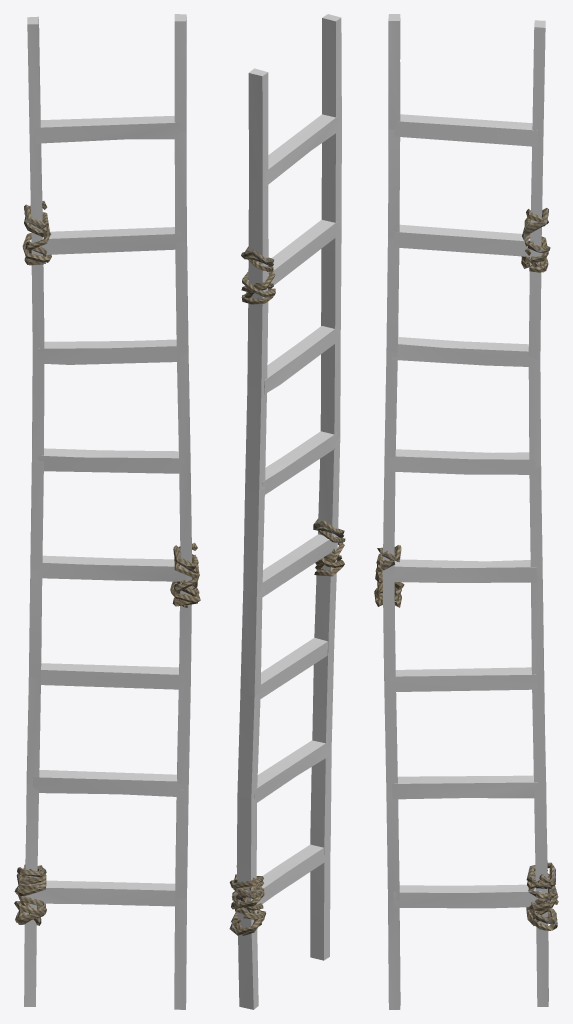
Rendered from SM_Ladder-A.fbx.
The picture shows the model from 3 angles, left to right: view 1: azimuth 90°, elevation 25°; view 2: azimuth 150°, elevation 25°; view 3: azimuth 270°, elevation 25°; orthographic projection. The views are drawn at different scales.
Parts seen in each view (by area): view 1: SM_Ladder-A_LOD0; view 2: SM_Ladder-A_LOD0; view 3: SM_Ladder-A_LOD0.
Boxes of the visible parts, <box> form: SM_Ladder-A_LOD0: <box>14,14,200,1009</box>; SM_Ladder-A_LOD0: <box>229,14,345,1009</box>; SM_Ladder-A_LOD0: <box>374,14,558,1009</box>.
Bounding box in the file's own units: 17.07 × 68.76 × 404.
Materials: 2 (1 with a texture image).
